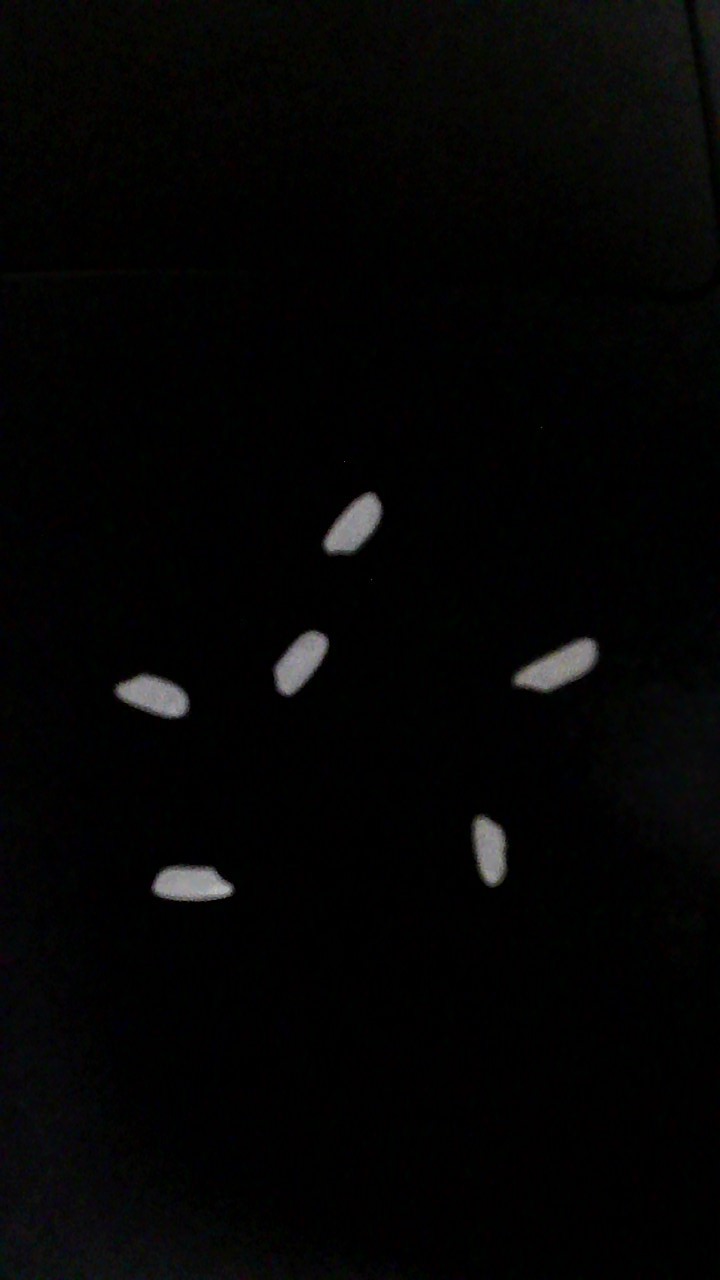complete_grain: (355, 210, 391, 373), (276, 583, 317, 718), (375, 933, 407, 1088), (353, 684, 392, 798), (486, 859, 508, 1015), (459, 368, 502, 446)
